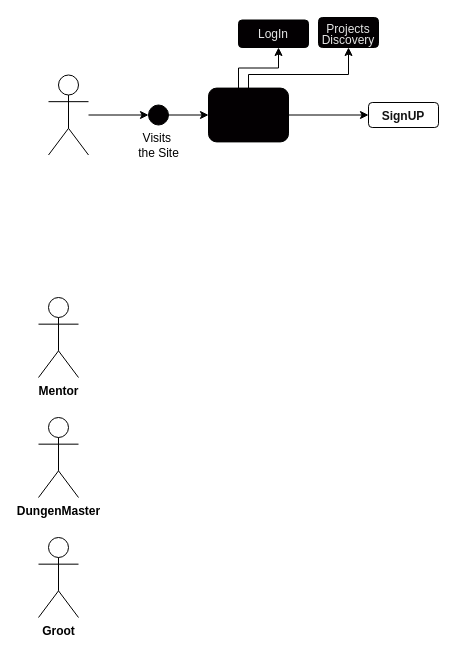
Some shapes in this 456 by 656 pixel diagram are drawn without their labels. The shapes that lost their labels are listed below. From the top down, each one's centre as x and y in pixels, then its label:
At [68,114]: "Player".
At [248,114]: "Onboarding RealityCheck map (fireshipio)".
